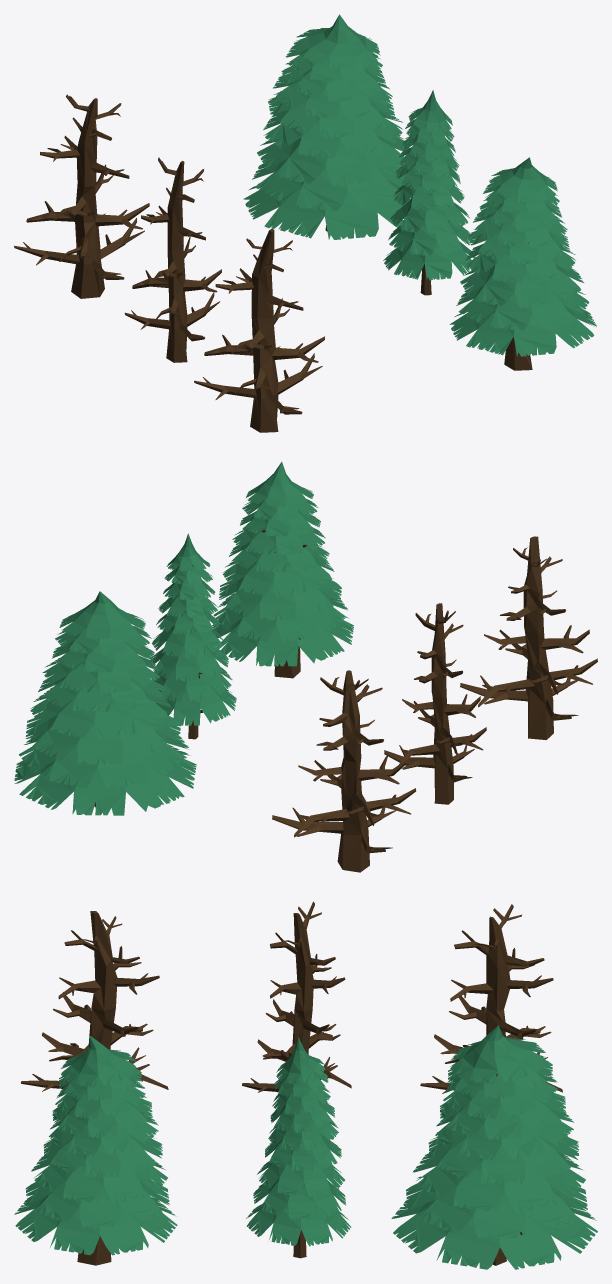
File: SM_winter_trees_SH.fbx
3 renders of one model, top to bottom at view 1: azimuth 30°, elevation 25°; view 2: azimuth 150°, elevation 25°; view 3: azimuth 270°, elevation 25°, orthographic. The views are drawn at different scales.
Parts seen in each view (by area): view 1: SM_winter_pine_3_DP, SM_winter_pine_1_DP, SM_winter_pine_2_DP, SM_winter_tree_3_DP, SM_winter_tree_1_DP, SM_winter_tree_2_DP; view 2: SM_winter_pine_3_DP, SM_winter_pine_1_DP, SM_winter_pine_2_DP, SM_winter_tree_3_DP, SM_winter_tree_1_DP, SM_winter_tree_2_DP; view 3: SM_winter_pine_3_DP, SM_winter_pine_1_DP, SM_winter_pine_2_DP, SM_winter_tree_1_DP, SM_winter_tree_3_DP, SM_winter_tree_2_DP.
Part boxes in pixels (left/top/right/bottom): SM_winter_pine_3_DP: left=243, top=14, right=410, bottom=239; SM_winter_pine_1_DP: left=449, top=157, right=596, bottom=370; SM_winter_pine_2_DP: left=383, top=90, right=475, bottom=295; SM_winter_tree_3_DP: left=14, top=94, right=149, bottom=298; SM_winter_tree_1_DP: left=194, top=228, right=324, bottom=432; SM_winter_tree_2_DP: left=124, top=157, right=221, bottom=362; SM_winter_pine_3_DP: left=14, top=591, right=196, bottom=815; SM_winter_pine_1_DP: left=212, top=461, right=353, bottom=678; SM_winter_pine_2_DP: left=150, top=533, right=236, bottom=739; SM_winter_tree_3_DP: left=272, top=670, right=416, bottom=872; SM_winter_tree_1_DP: left=460, top=536, right=597, bottom=739; SM_winter_tree_2_DP: left=384, top=603, right=486, bottom=804; SM_winter_pine_3_DP: left=391, top=1025, right=597, bottom=1269; SM_winter_pine_1_DP: left=14, top=1035, right=177, bottom=1265; SM_winter_pine_2_DP: left=246, top=1037, right=351, bottom=1258; SM_winter_tree_1_DP: left=21, top=911, right=168, bottom=1091; SM_winter_tree_3_DP: left=420, top=904, right=562, bottom=1093; SM_winter_tree_2_DP: left=242, top=901, right=351, bottom=1101.
Size of the model in its own units: 39.62 by 47.34 by 21.14.
